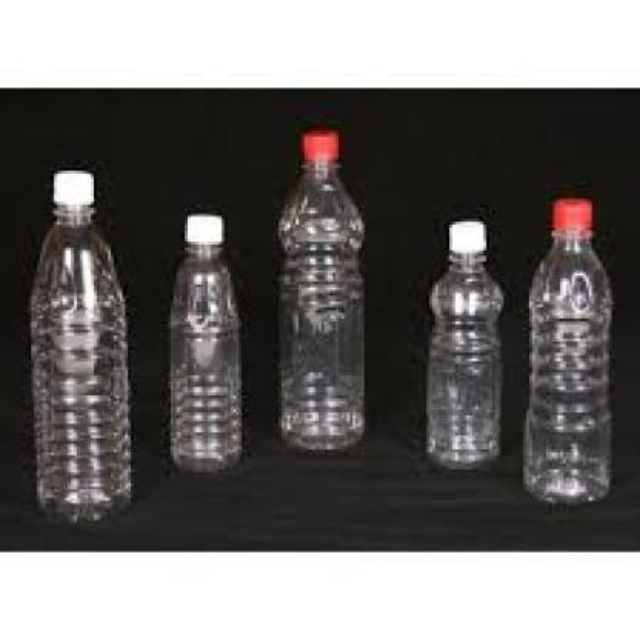trash: (31, 171, 131, 520), (278, 129, 363, 449), (523, 198, 611, 502), (426, 220, 502, 466), (169, 214, 240, 471)
